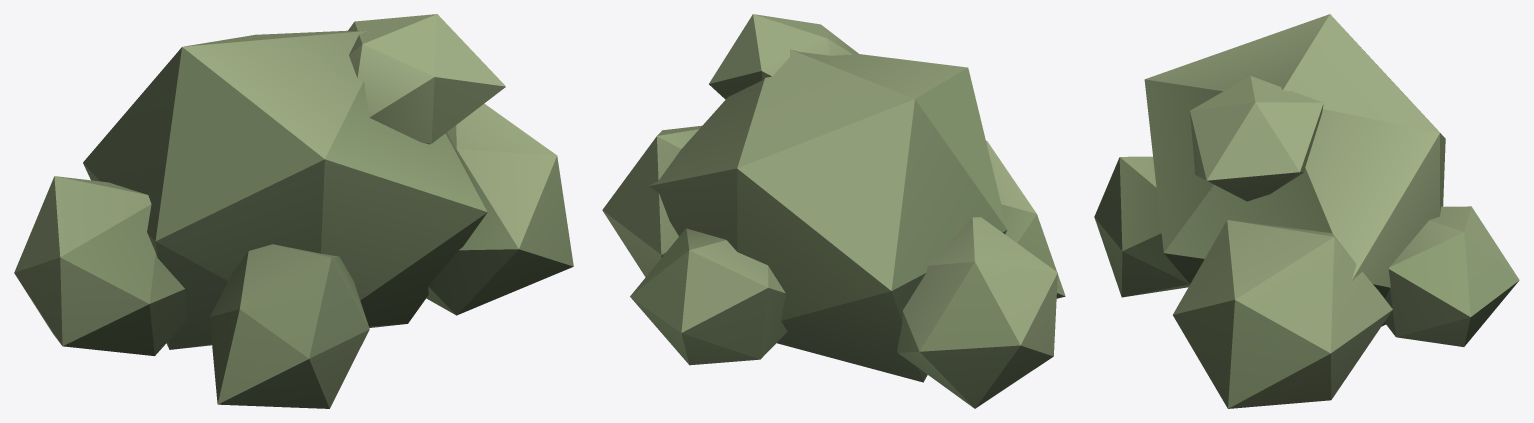
File: bush.lod1.glb
The picture shows the model from 3 angles, left to right: view 1: azimuth 30°, elevation 25°; view 2: azimuth 150°, elevation 25°; view 3: azimuth 270°, elevation 25°; orthographic projection. The views are drawn at different scales.
Size of the model in its own units: 2.03 by 1.27 by 1.69.
